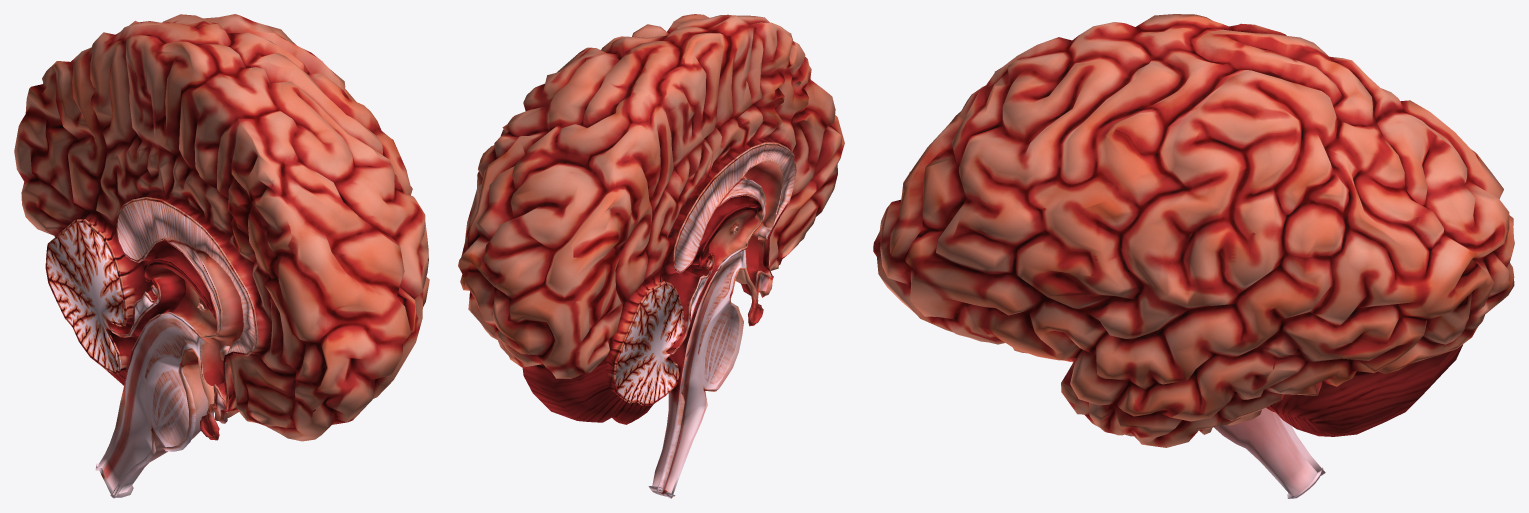
The model's file is Brain88.glb.
3 renders of one model, left to right at view 1: azimuth 30°, elevation 25°; view 2: azimuth 150°, elevation 25°; view 3: azimuth 270°, elevation 25°, orthographic. The views are drawn at different scales.
Parts seen in each view (by area): view 1: Object03; view 2: Object03; view 3: Object03.
Boxes of the visible parts, box(x1,y1,x2,y2) form: Object03: box(14, 14, 429, 498); Object03: box(458, 14, 844, 498); Object03: box(873, 14, 1514, 498).
Size of the model in its own units: 0.3441 by 0.7094 by 0.8427.
Materials: 1 (1 with a texture image).
